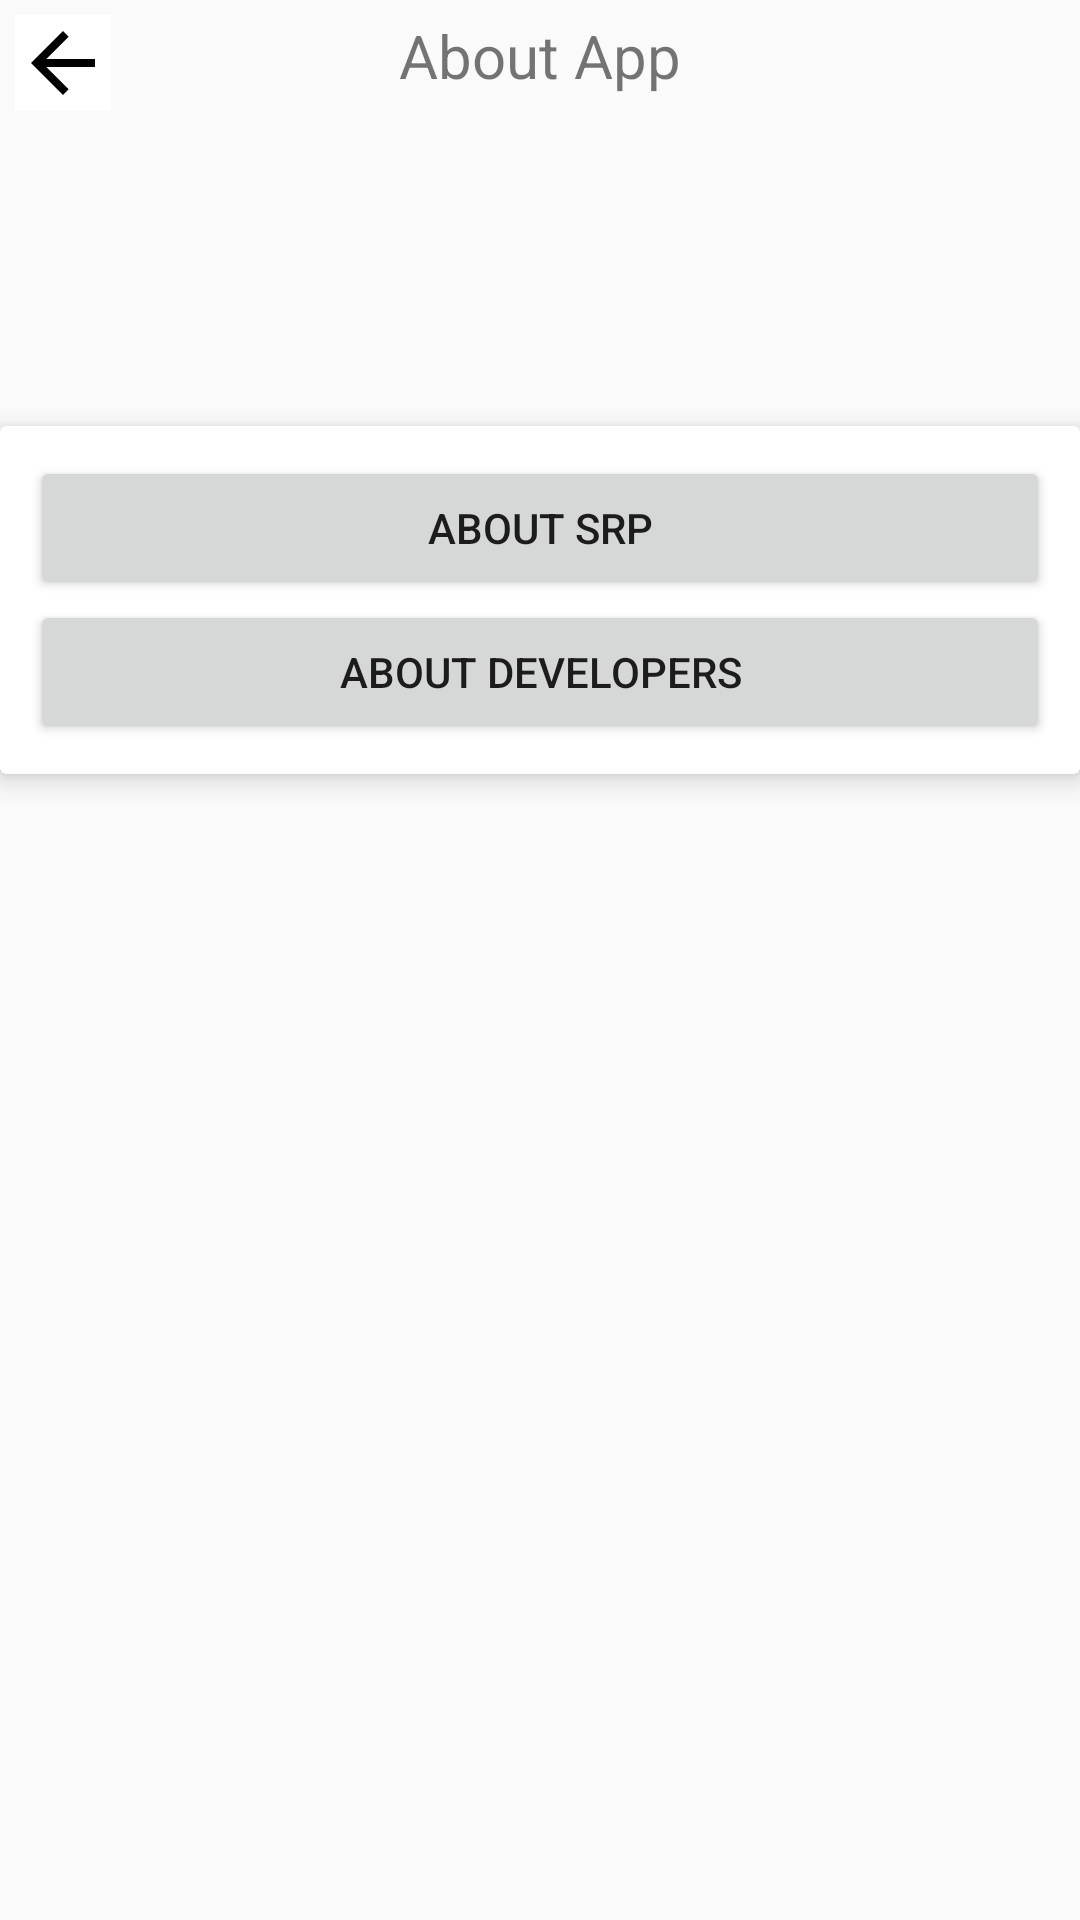

Named icons in this screenshot (1080 × 1920) and their bounding boxes, (x1, y1, x2, y2):
arrow back: (31, 31, 95, 95)
